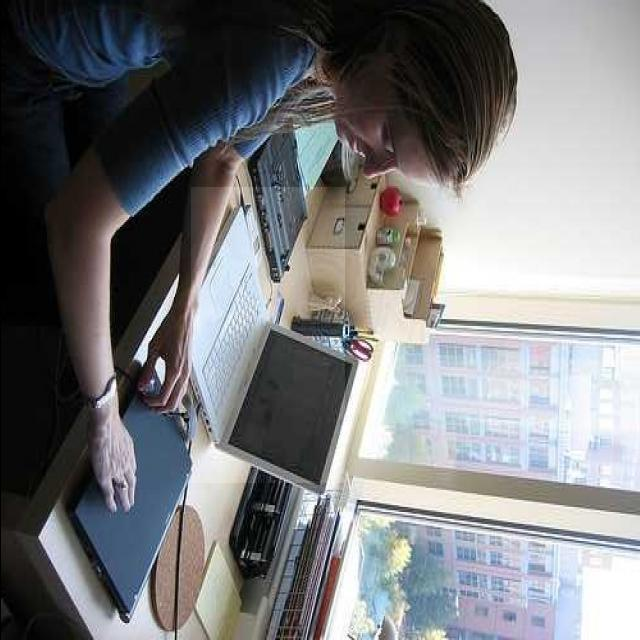-keyboard-: (191, 187, 345, 483)
